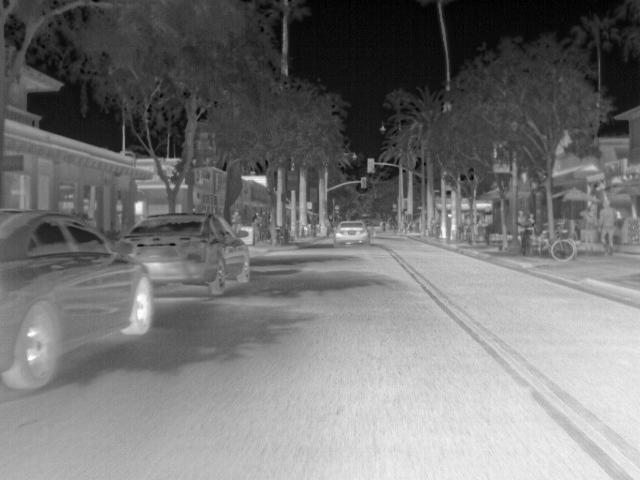car: (1, 208, 154, 393), (120, 212, 251, 296), (332, 218, 372, 248), (368, 220, 387, 236)
person: (579, 202, 600, 256), (598, 199, 618, 255), (516, 208, 528, 245), (253, 211, 263, 245), (232, 210, 243, 233), (85, 208, 99, 226), (528, 213, 537, 232)
